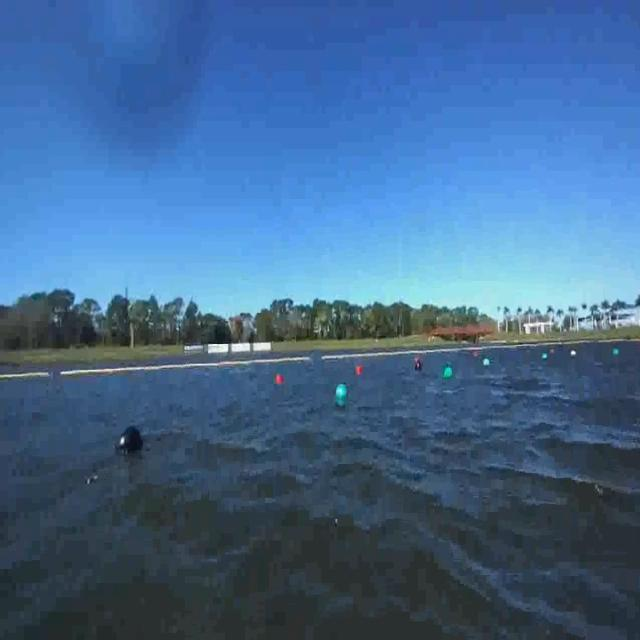black-buoy: (114, 414, 152, 478)
green-buoy: (337, 381, 349, 399), (445, 364, 454, 378)
red-buoy: (354, 362, 366, 383), (277, 373, 284, 385)
